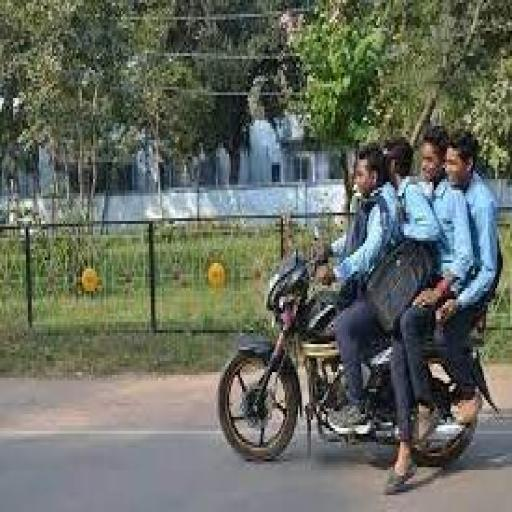no helmet: (330, 122, 401, 220)
triple riding: (214, 103, 512, 487)
